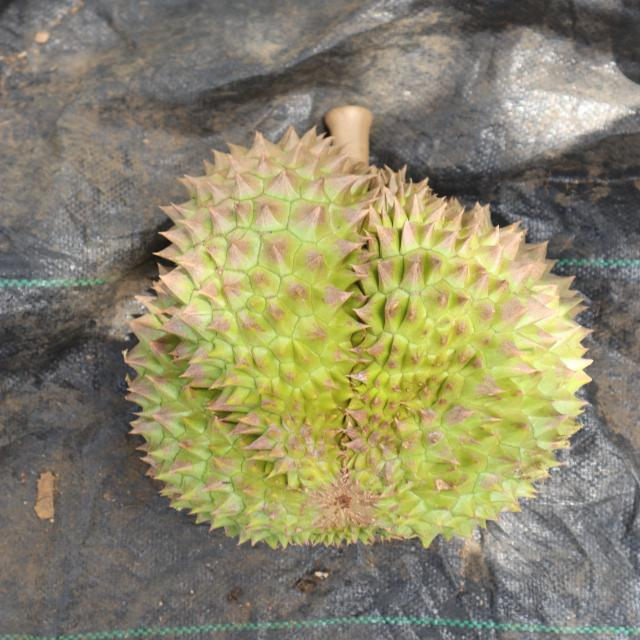mature: (120, 124, 598, 552)
